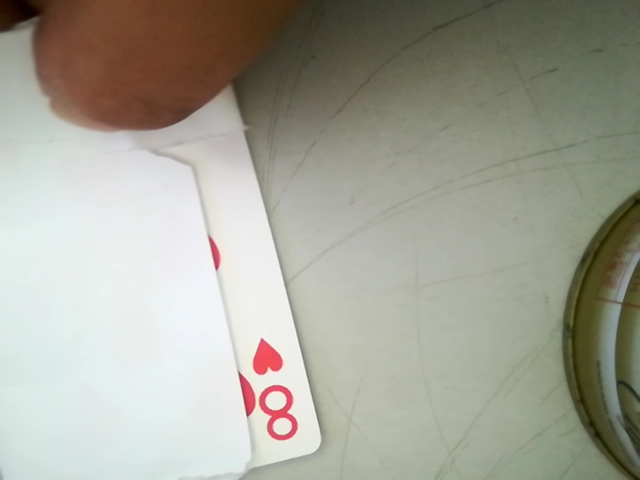hx 8: (221, 324, 306, 452)
